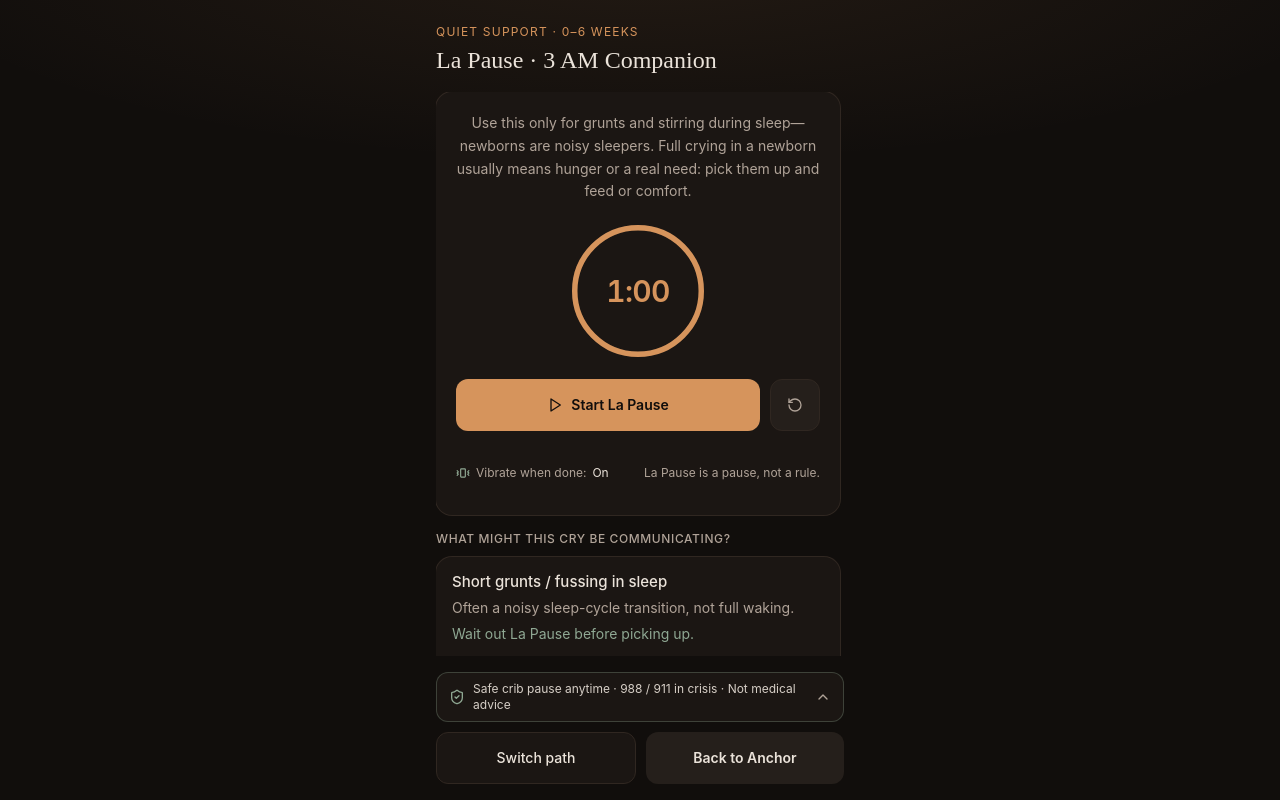
Test: SosOverlay › La Pause timer counts down, shows post-pause guide, and restarts cleanly
This screenshot has width=1280, height=800.
Check: the text "only for grunts and stirring" is shown, box 457,114 -> 819,199
Check: the text "1:00" is shown, box 606,273 -> 670,309
Click the button "Start La Pause".
click(608, 405)  # box 456,379 -> 760,431
Wait 61000 ms
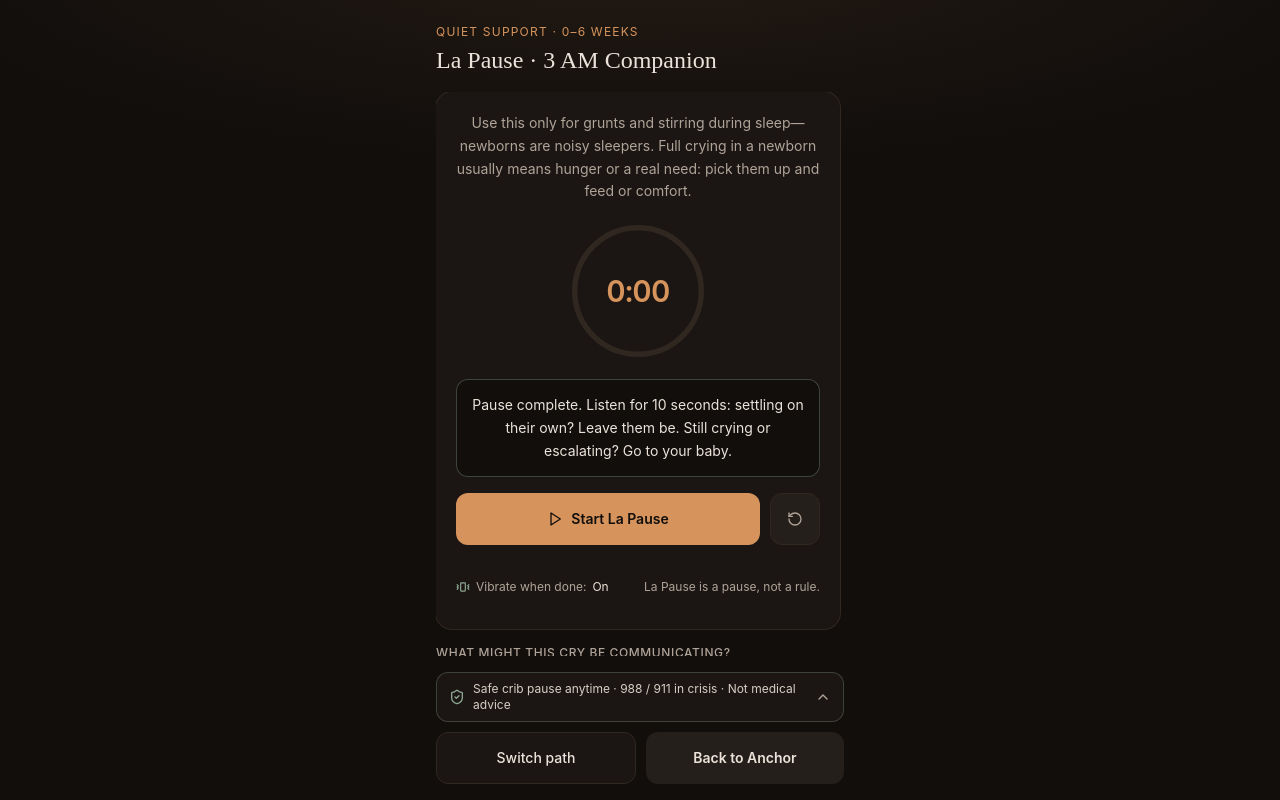
Check: the text "0:30" is shown, box 606,273 -> 670,309
Check: the text "Pause complete. Listen for 10 seconds" is shown, box 472,396 -> 804,458
Click the button "Start La Pause".
click(608, 519)  # box 456,493 -> 760,545
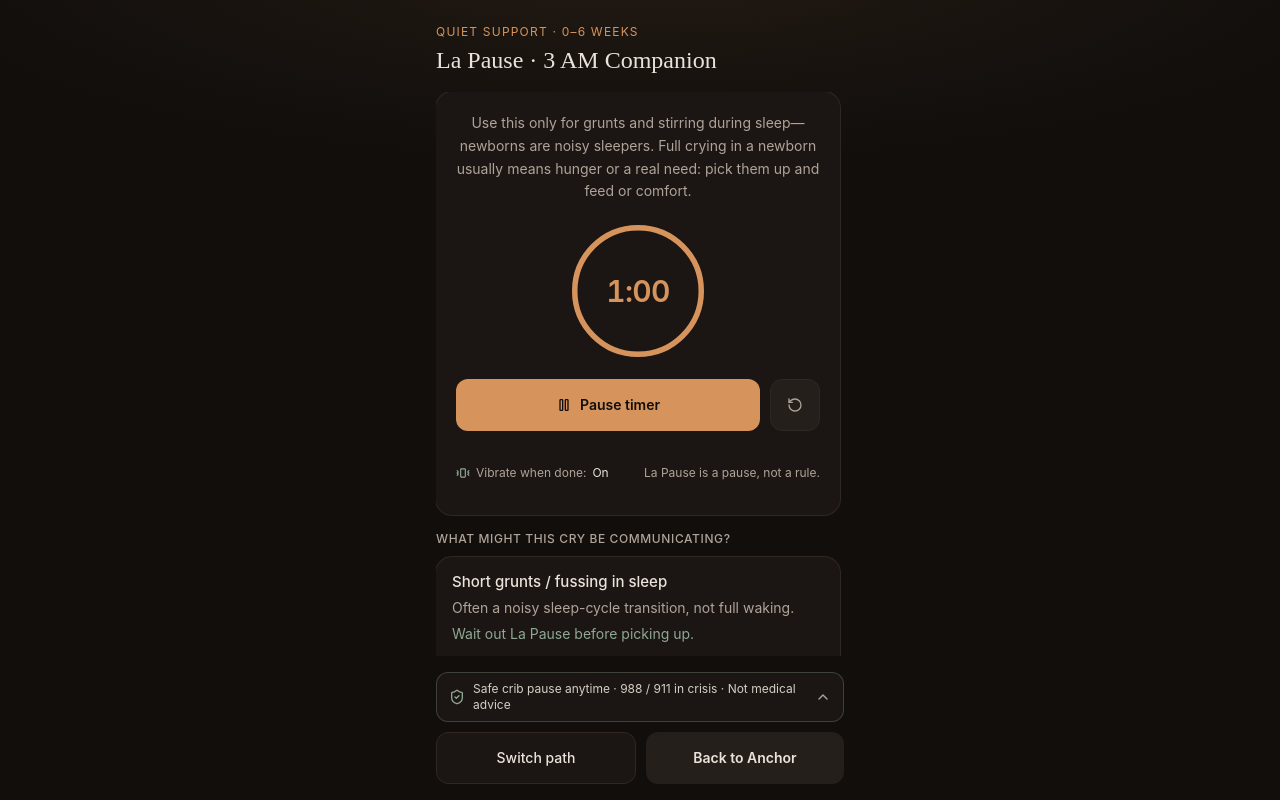
Check: the text "1:00" is shown, box 606,273 -> 670,309
